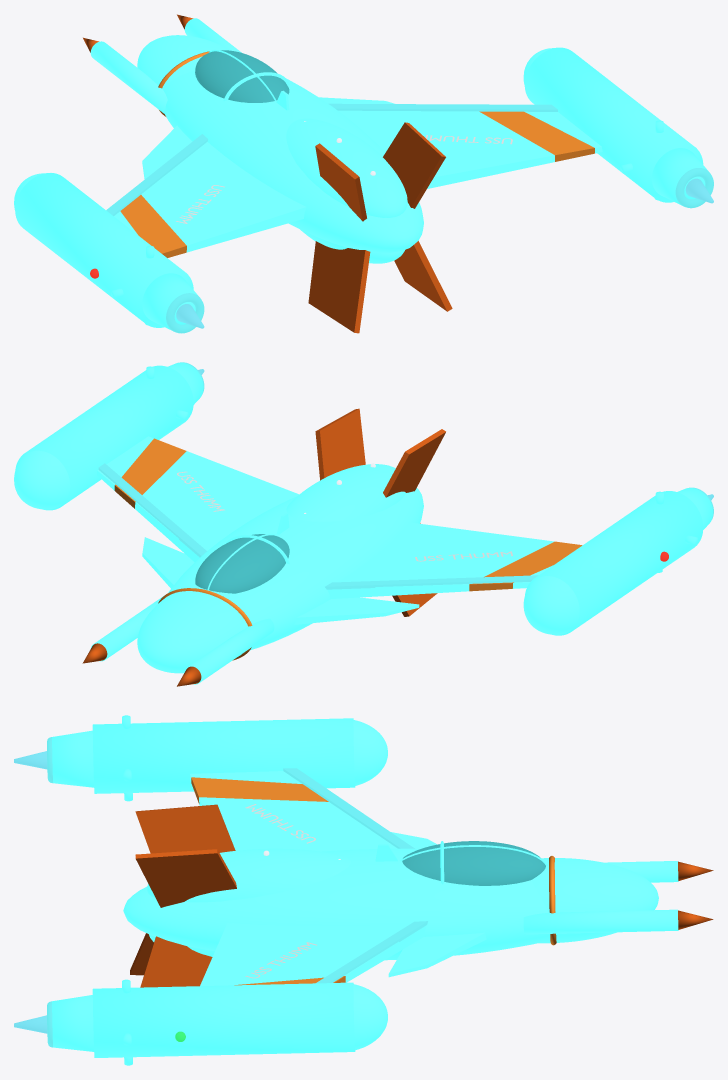
Rendered from uss-thumm.glb.
The picture shows the model from 3 angles, top to bottom: view 1: azimuth 30°, elevation 25°; view 2: azimuth 150°, elevation 25°; view 3: azimuth 270°, elevation 25°; orthographic projection. The views are drawn at different scales.
Parts seen in each view (by area): view 1: Fuselage, NacelleL, NacelleR, WingL, WingR, Dorsal, FinBottomL, Canopy, FinR, NoseAccent, WingStripeR, WingStripeL (+13 smaller); view 2: Fuselage, NacelleL, NacelleR, WingL, WingR, NoseAccent, Dorsal, Canopy, NacelleCapL, NacelleCapR, FinR, SubWingL (+11 smaller); view 3: Fuselage, NacelleR, NacelleL, WingR, WingL, NoseAccent, Dorsal, Canopy, FinR, FinL, ProngR, FinBottomR (+10 smaller).
Boxes of the visible parts, x1=… form: Fuselage: x1=162, y1=70, x2=423, y2=253; NacelleL: x1=15, y1=173, x2=193, y2=327; NacelleR: x1=524, y1=47, x2=703, y2=202; WingL: x1=141, y1=142, x2=306, y2=252; WingR: x1=338, y1=110, x2=554, y2=188; Dorsal: x1=286, y1=118, x2=407, y2=217; FinBottomL: x1=308, y1=241, x2=370, y2=333; Canopy: x1=195, y1=50, x2=289, y2=102; FinR: x1=383, y1=122, x2=445, y2=208; NoseAccent: x1=137, y1=35, x2=231, y2=87; WingStripeR: x1=479, y1=111, x2=594, y2=161; WingStripeL: x1=120, y1=195, x2=186, y2=257; Fuselage: x1=168, y1=488, x2=423, y2=650; NacelleL: x1=525, y1=491, x2=703, y2=635; NacelleR: x1=15, y1=365, x2=193, y2=510; WingL: x1=327, y1=522, x2=554, y2=599; WingR: x1=135, y1=451, x2=299, y2=562; NoseAccent: x1=137, y1=584, x2=251, y2=673; Dorsal: x1=286, y1=464, x2=405, y2=521; Canopy: x1=195, y1=534, x2=289, y2=593; NacelleCapL: x1=523, y1=576, x2=579, y2=634; NacelleCapR: x1=14, y1=450, x2=70, y2=509; FinR: x1=315, y1=408, x2=365, y2=480; SubWingL: x1=294, y1=597, x2=419, y2=624; Fuselage: x1=123, y1=848, x2=549, y2=960; NacelleR: x1=92, y1=982, x2=355, y2=1057; NacelleL: x1=92, y1=718, x2=355, y2=793; WingR: x1=200, y1=923, x2=425, y2=985; WingL: x1=199, y1=797, x2=397, y2=851; NoseAccent: x1=532, y1=858, x2=658, y2=943; Dorsal: x1=147, y1=848, x2=350, y2=902; Canopy: x1=402, y1=841, x2=545, y2=885; FinR: x1=135, y1=849, x2=236, y2=907; FinL: x1=135, y1=804, x2=235, y2=853; ProngR: x1=523, y1=909, x2=678, y2=934; FinBottomR: x1=140, y1=936, x2=212, y2=987.
Bounding box in the file's own units: 8.93 × 2.38 × 8.7.
